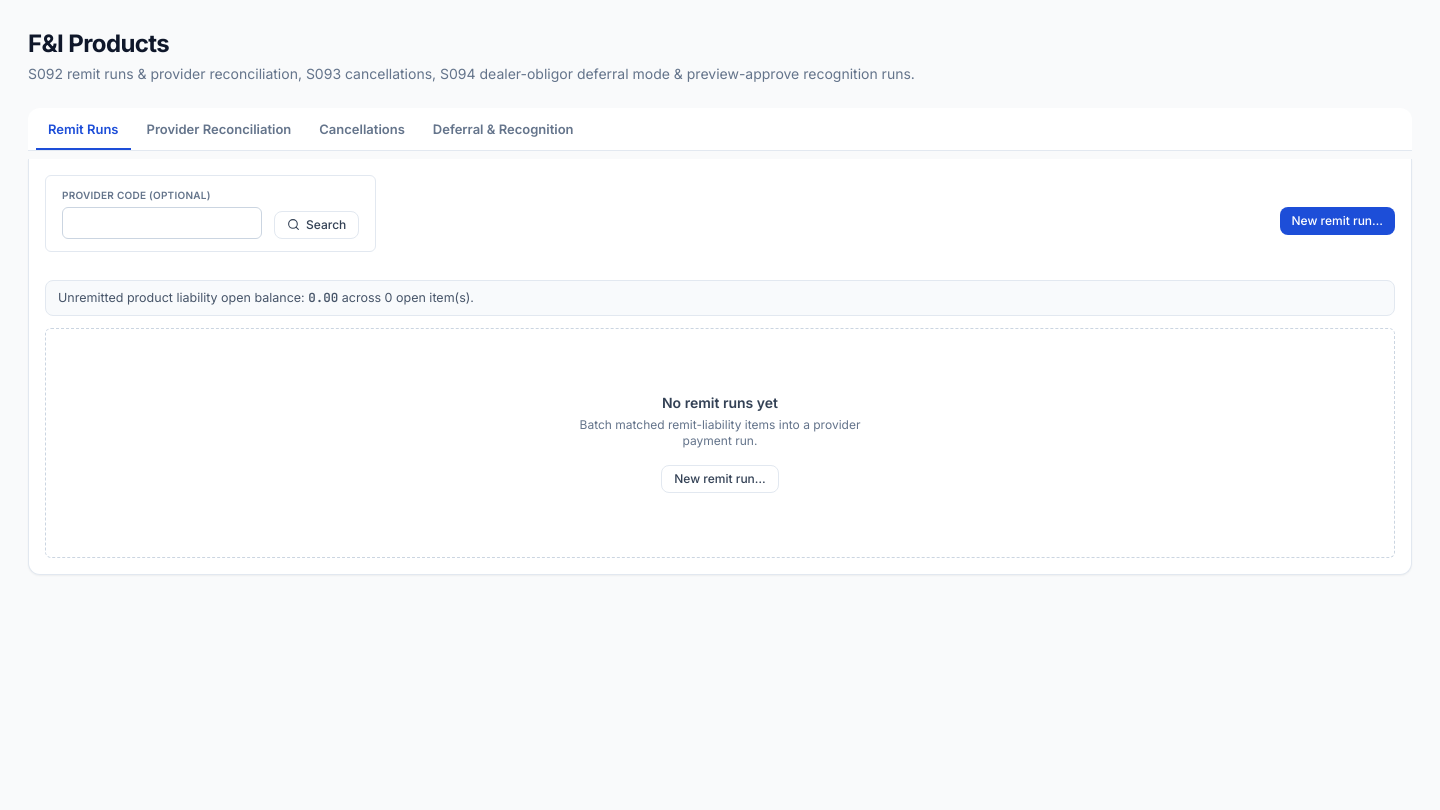
FniProducts — Deferral bookings + schedule-authoritative tie-out › shows the real schedule-service-authoritative tie-out when a schedule mapping is configured
The image size is (1440, 810).
Click the button with test id "fni-products-tab-deferral" at (503, 131), box [421,112,586,150]
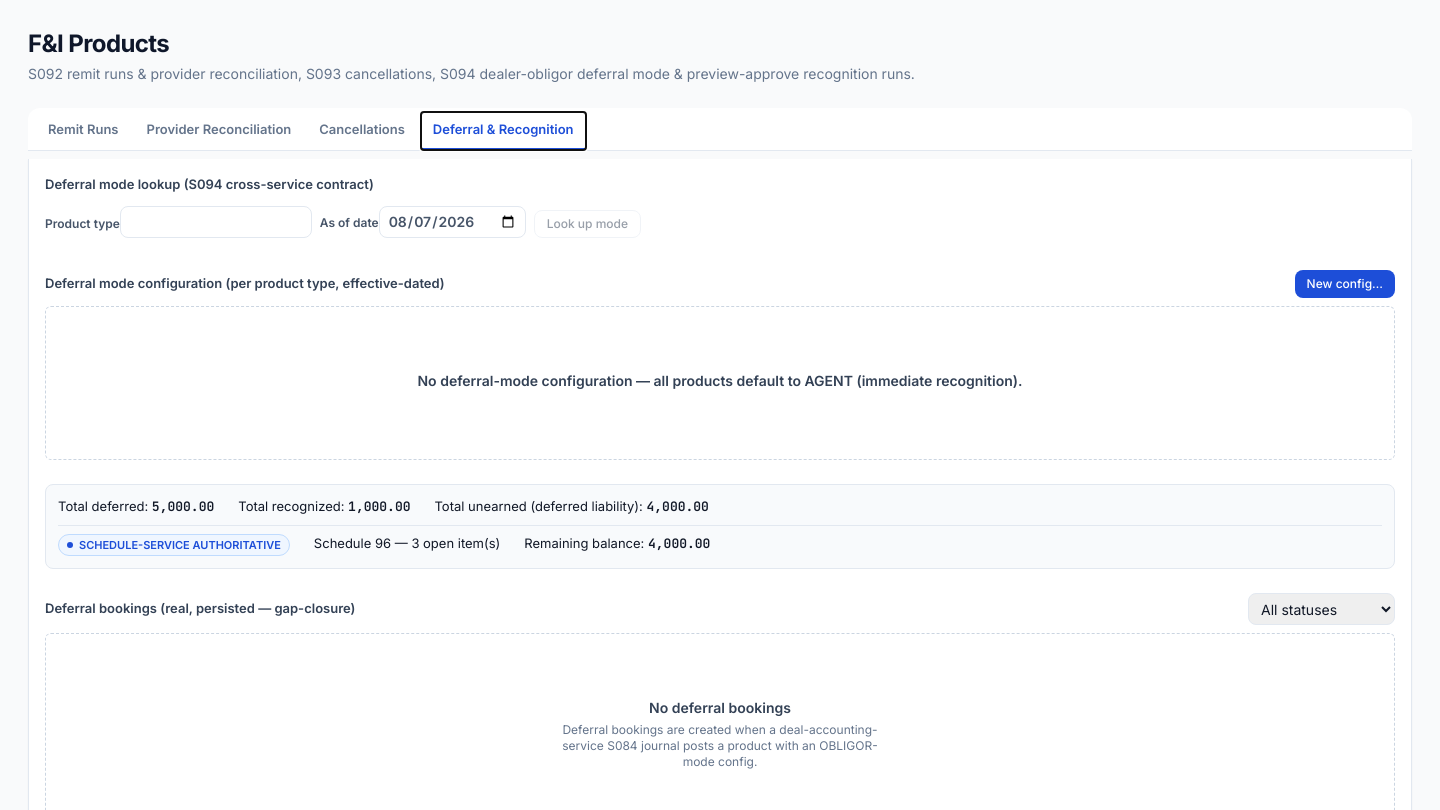
Check: the element with test id "deferral-schedule-tieout" shows "96", box [375,534,391,550]
Check: the element with test id "deferral-schedule-tieout" shows "4,000.00", box [648,534,710,552]
